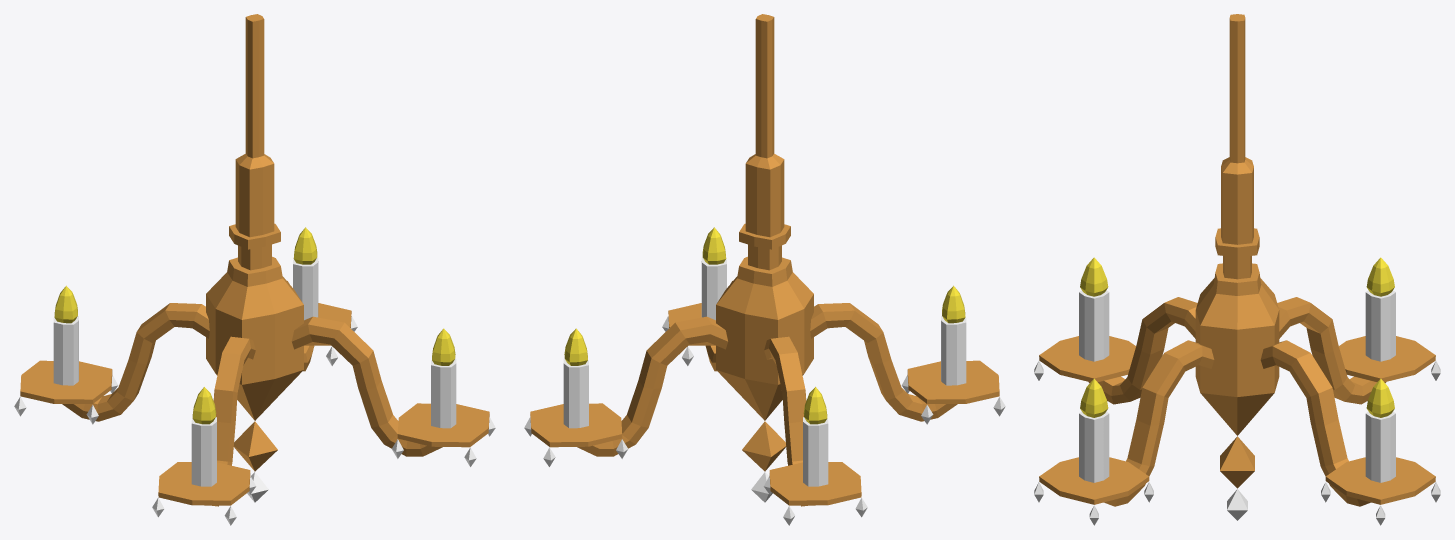
File: Chandelier_01.obj
3 views of the same model, side by side, from view 1: azimuth 30°, elevation 25°; view 2: azimuth 150°, elevation 25°; view 3: azimuth 270°, elevation 25° (orthographic). The views are drawn at different scales.
Visible parts, largest first — view 1: Chandelier_01_Cube.035; view 2: Chandelier_01_Cube.035; view 3: Chandelier_01_Cube.035.
Part boxes in pixels (x1,y1,x2,y2): Chandelier_01_Cube.035: [14, 14, 495, 525]; Chandelier_01_Cube.035: [524, 14, 1005, 525]; Chandelier_01_Cube.035: [1034, 14, 1440, 525].
Bounding box in the file's own units: 7.3 × 9.97 × 7.3.
